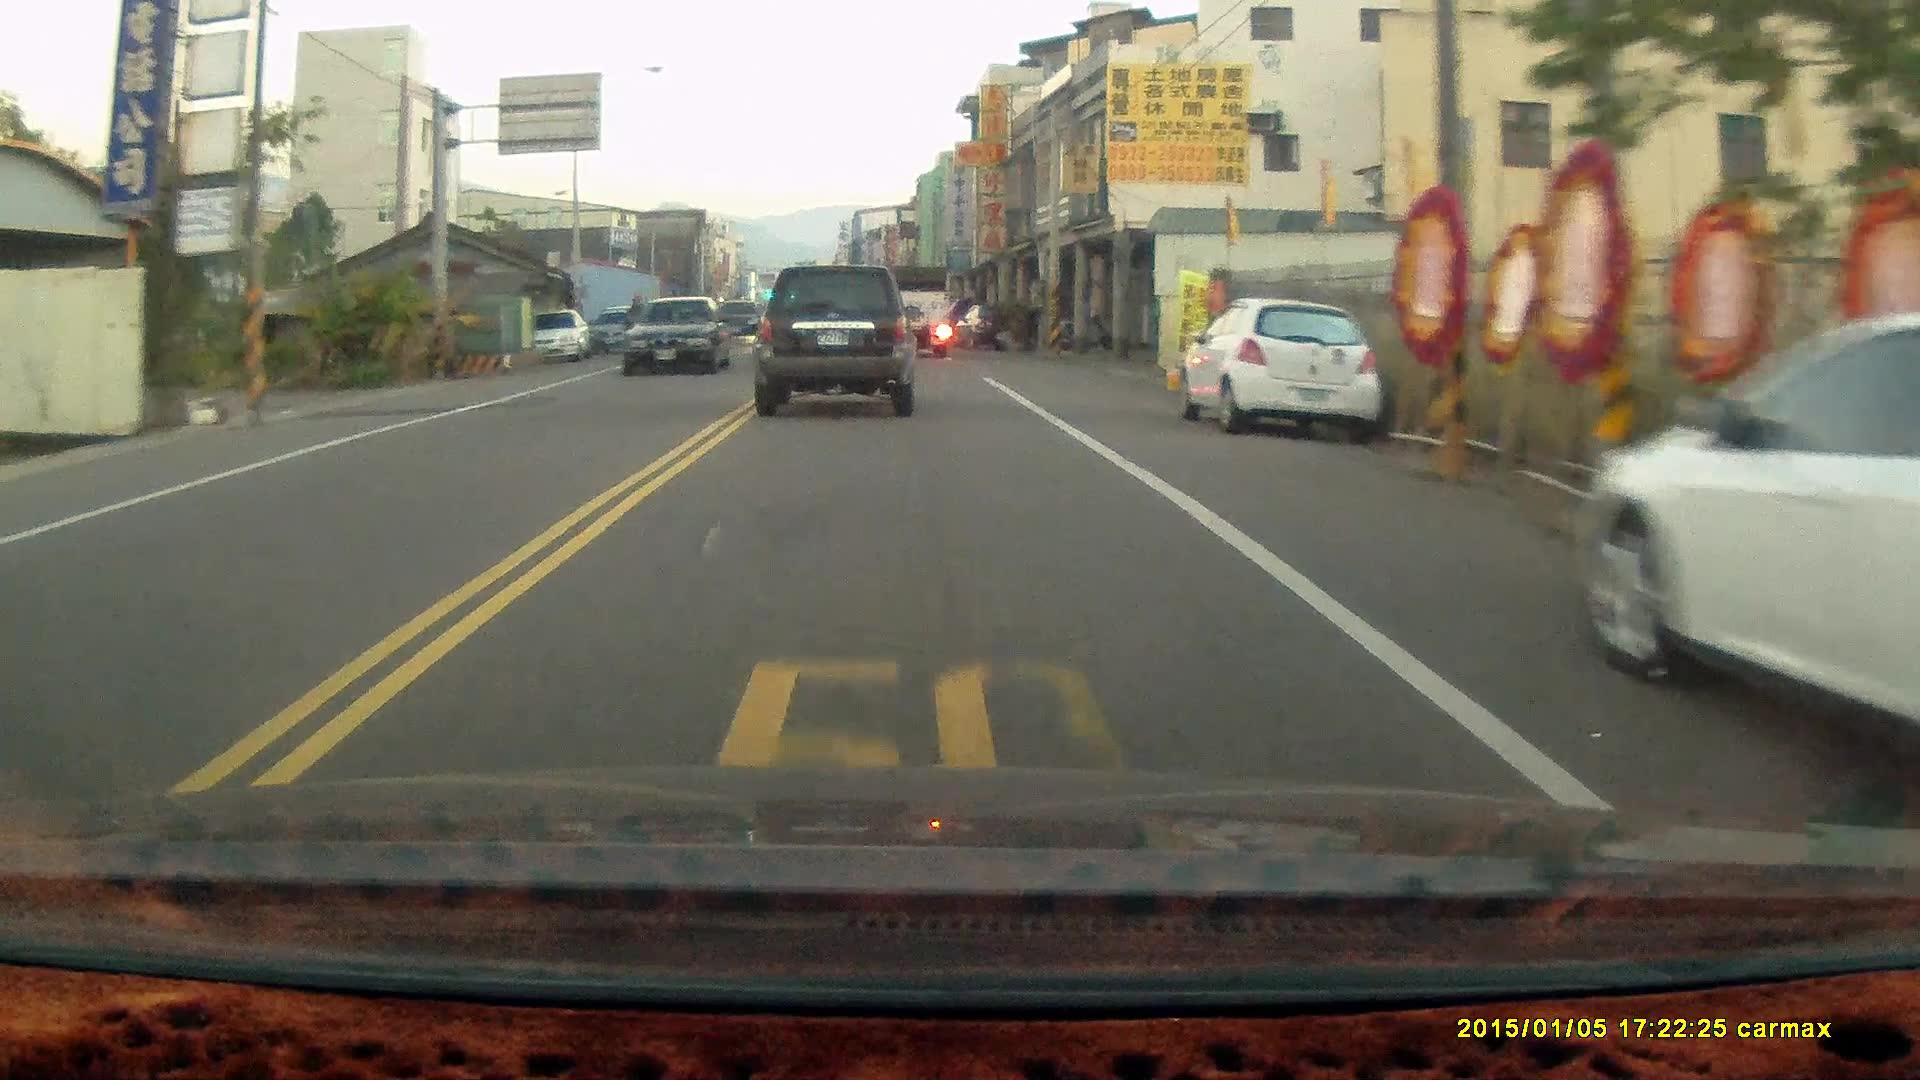vehicle: (1575, 315, 1920, 836), (1182, 298, 1378, 446), (749, 266, 918, 419), (626, 291, 738, 376), (880, 262, 956, 357), (514, 309, 593, 364), (584, 309, 653, 356)
